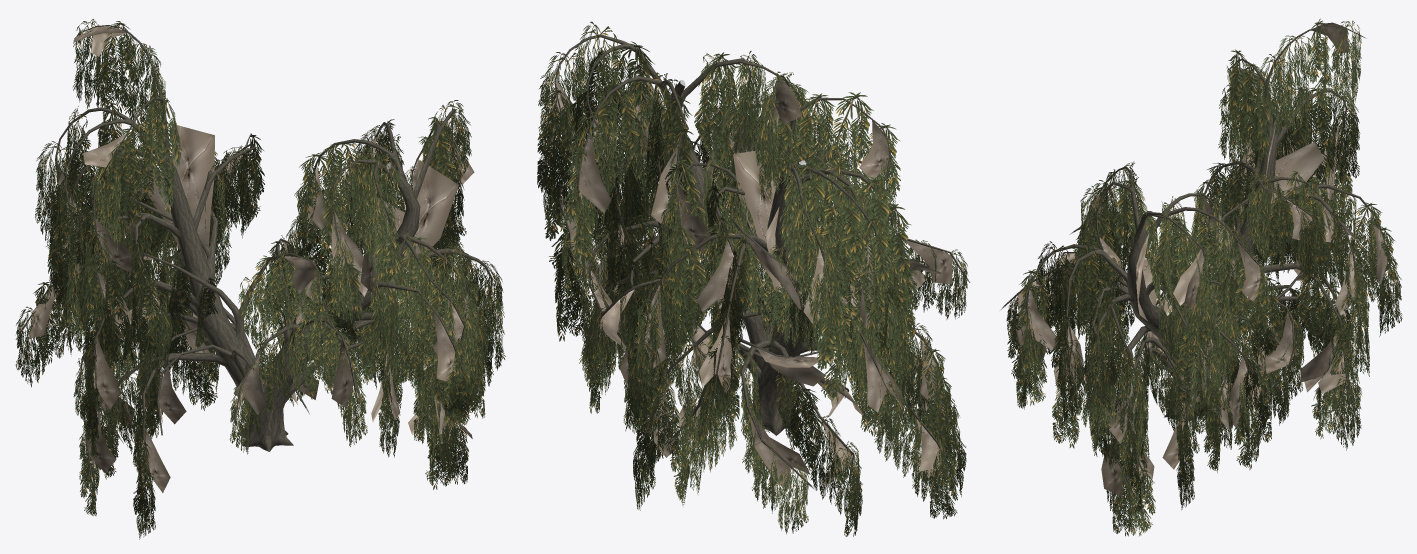
File: MarshWillow_5.fbx
3 views of the same model, side by side, from view 1: azimuth 30°, elevation 25°; view 2: azimuth 150°, elevation 25°; view 3: azimuth 270°, elevation 25° (orthographic). The views are drawn at different scales.
Parts seen in each view (by area): view 1: MarshWillow_5; view 2: MarshWillow_5; view 3: MarshWillow_5.
Boxes of the visible parts, x1,y1,x2,y2 form: MarshWillow_5: (15, 19, 505, 539); MarshWillow_5: (537, 21, 970, 536); MarshWillow_5: (1000, 18, 1402, 536).
Bounding box in the file's own units: 38.81 × 43.7 × 37.63.
